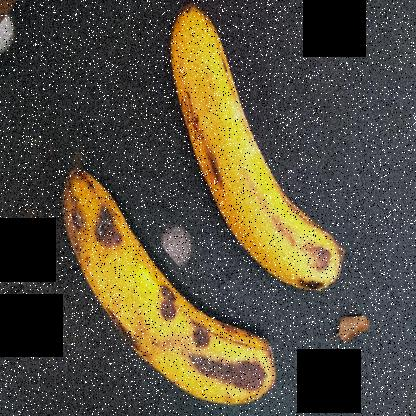overripe: (51, 159, 285, 415)
ripe: (165, 8, 354, 298)
